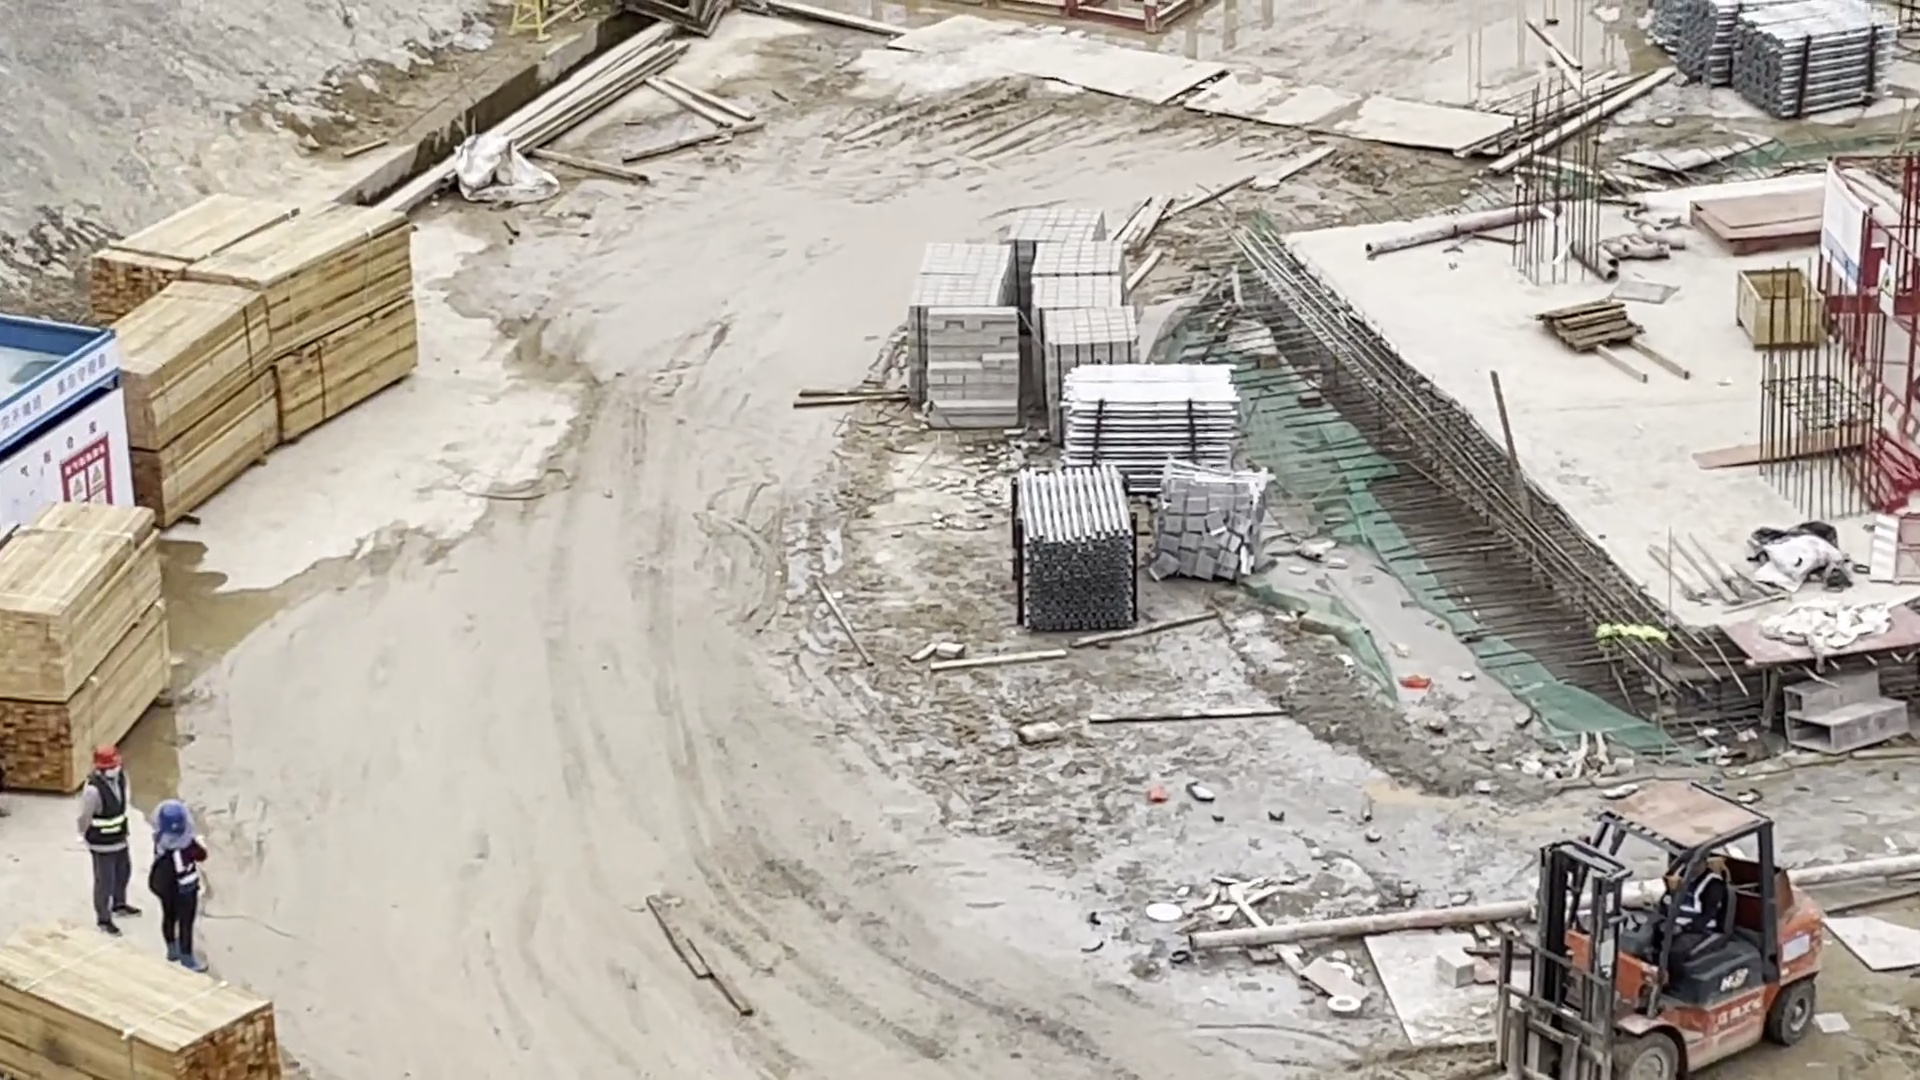brick: (876, 197, 1150, 420)
fence: (1811, 142, 1920, 438)
helmet: (147, 799, 201, 851), (85, 738, 133, 769)
hopper: (1742, 257, 1830, 355)
person: (69, 731, 151, 943), (140, 796, 233, 979), (1672, 857, 1725, 969)
scaffold: (1641, 3, 1906, 137), (1046, 358, 1252, 487), (1015, 462, 1148, 637)
slogan: (3, 303, 161, 534), (1815, 185, 1903, 334)
vest: (84, 769, 138, 850), (154, 835, 214, 904), (1677, 877, 1729, 939)
wood: (91, 187, 426, 531), (1, 489, 187, 801), (3, 909, 312, 1080)
